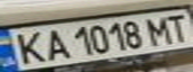0: (87, 21, 112, 54)
1: (69, 24, 93, 56), (106, 19, 127, 52)
8: (121, 17, 148, 50)
A: (39, 26, 72, 62)
K: (6, 28, 48, 65)
M: (142, 15, 175, 46)
T: (160, 11, 193, 43)
